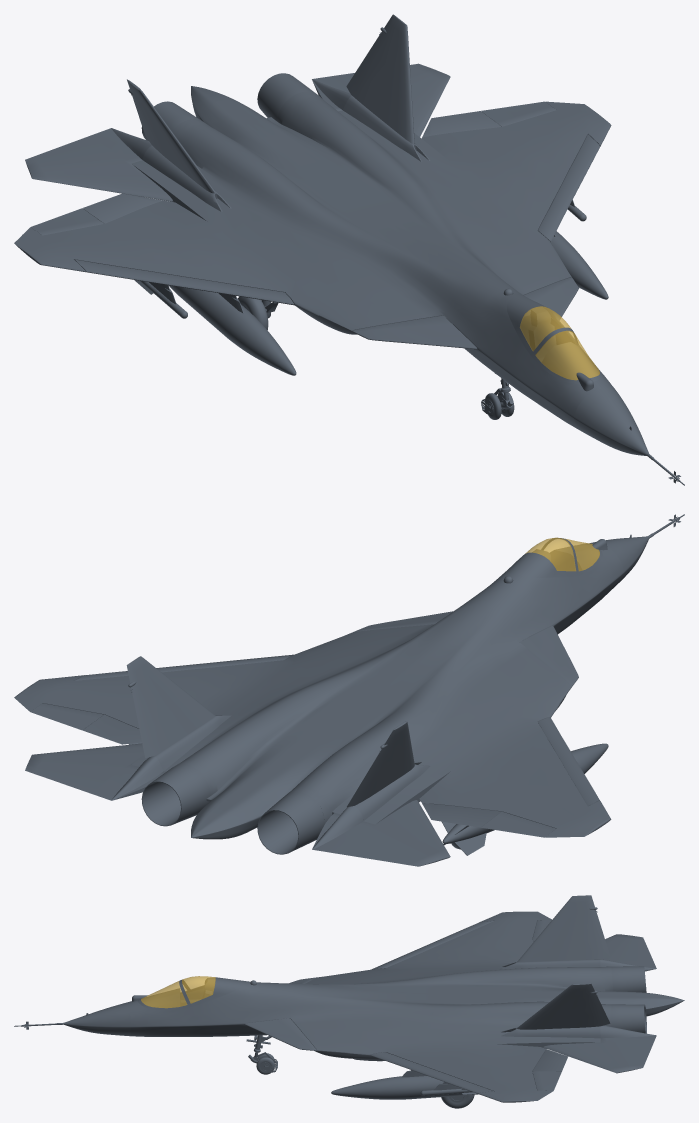
3 renders of one model, top to bottom at view 1: azimuth 30°, elevation 25°; view 2: azimuth 150°, elevation 25°; view 3: azimuth 270°, elevation 25°, orthographic. The views are drawn at different scales.
Visible parts, largest first — view 1: body, gear; view 2: body; view 3: body, gear.
Boxes of the visible parts, <box> form: body: <box>14,14,684,485</box>; gear: <box>238,296,514,419</box>; body: <box>14,514,684,866</box>; body: <box>14,895,684,1102</box>; gear: <box>246,1035,474,1108</box>.
Bounding box in the file's own units: 13.36 × 4.37 × 20.
